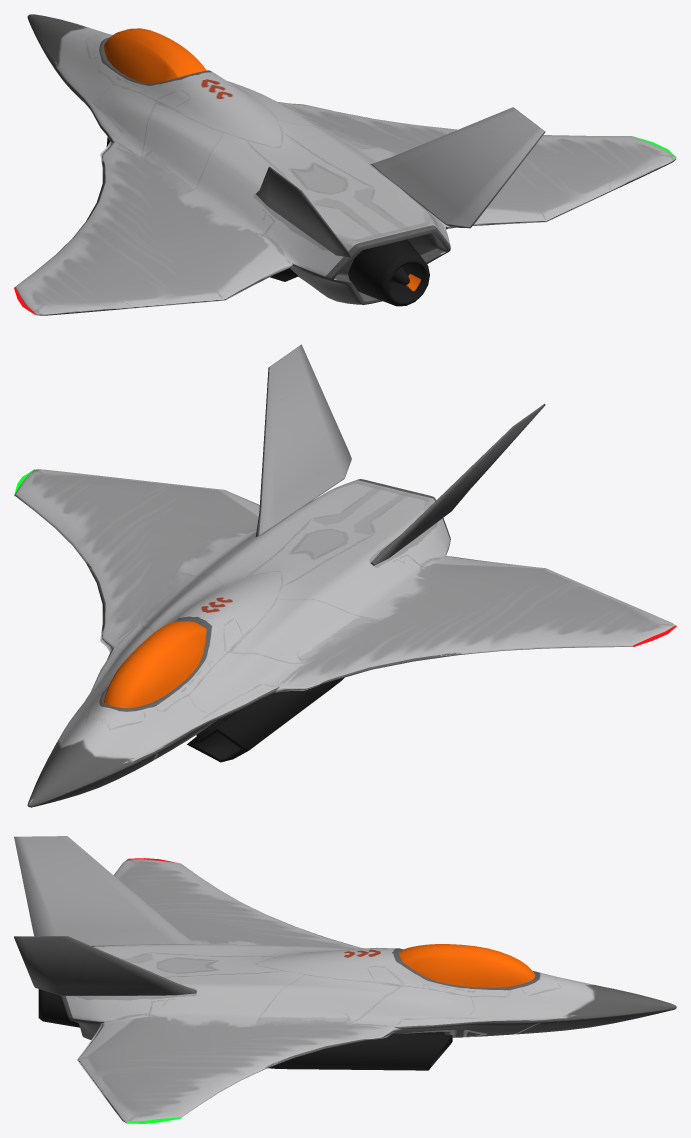
The picture shows the model from 3 angles, top to bottom: view 1: azimuth 30°, elevation 25°; view 2: azimuth 150°, elevation 25°; view 3: azimuth 270°, elevation 25°; orthographic projection. The views are drawn at different scales.
Parts seen in each view (by area): view 1: Body, Back Wings, Liftoff, Cockpit; view 2: Body, Back Wings, Cockpit, Intake; view 3: Body, Back Wings, Intake, Cockpit, Liftoff.
Part boxes in pixels (<box>): Body: <box>14,14,675,315</box>; Back Wings: <box>256,107,545,257</box>; Liftoff: <box>348,239,429,306</box>; Cockpit: <box>104,28,206,83</box>; Body: <box>14,469,675,807</box>; Back Wings: <box>255,344,545,565</box>; Cockpit: <box>104,621,206,708</box>; Intake: <box>187,677,344,762</box>; Body: <box>61,859,676,1123</box>; Back Wings: <box>14,836,196,995</box>; Intake: <box>268,1032,452,1070</box>; Cockpit: <box>399,944,535,987</box>; Liftoff: <box>38,989,79,1027</box>.
Size of the model in its own units: 14.98 by 4.39 by 15.84.
5 materials, 3 textured.
